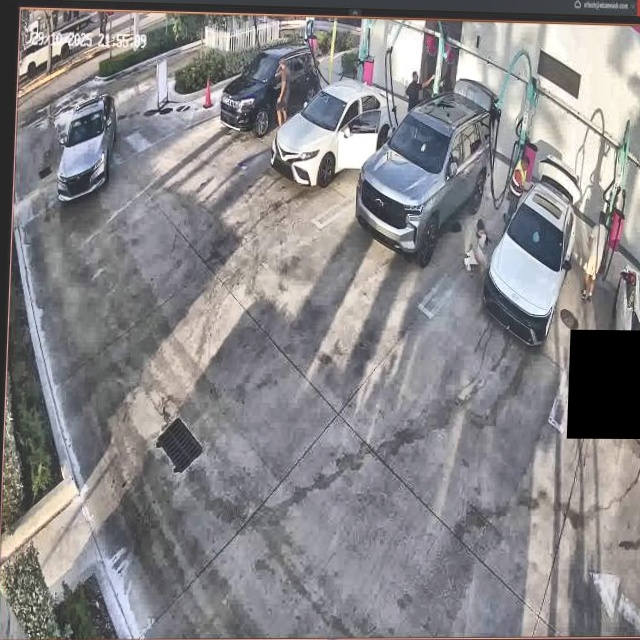Car: (359, 90, 491, 262), (483, 161, 579, 344), (272, 78, 396, 182)
